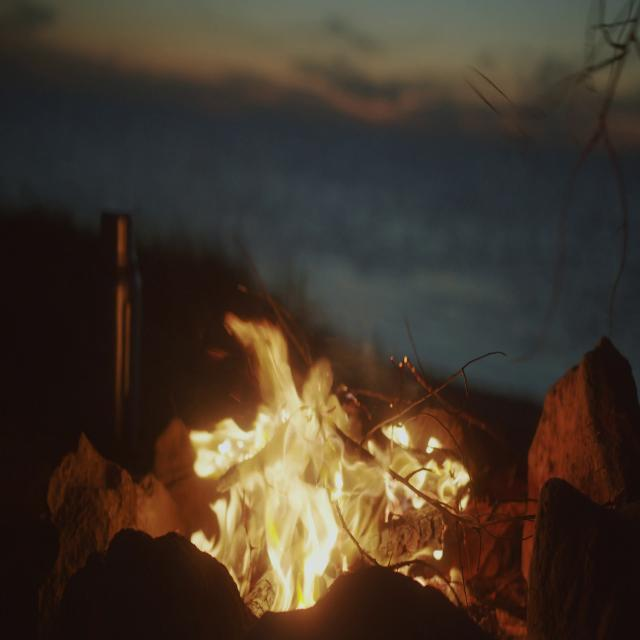Fire: (185, 294, 476, 611)
